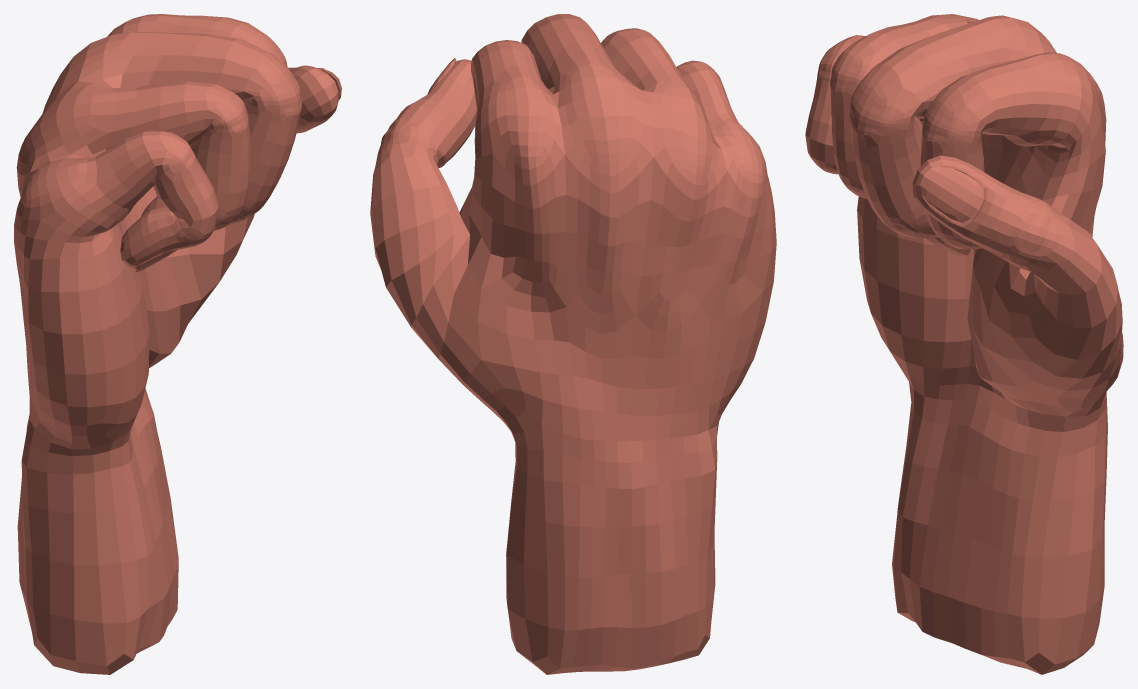
File: seen.glb
The picture shows the model from 3 angles, left to right: view 1: azimuth 30°, elevation 25°; view 2: azimuth 150°, elevation 25°; view 3: azimuth 270°, elevation 25°; orthographic projection. The views are drawn at different scales.
Visible parts, largest first — view 1: ZBrushPolyMesh3D; view 2: ZBrushPolyMesh3D; view 3: ZBrushPolyMesh3D.
Part boxes in pixels (left/top/right/bottom): ZBrushPolyMesh3D: left=14, top=14, right=341, bottom=674; ZBrushPolyMesh3D: left=370, top=14, right=776, bottom=674; ZBrushPolyMesh3D: left=805, top=14, right=1123, bottom=674.
Bounding box in the file's own units: 2.24 × 3.81 × 1.71.
